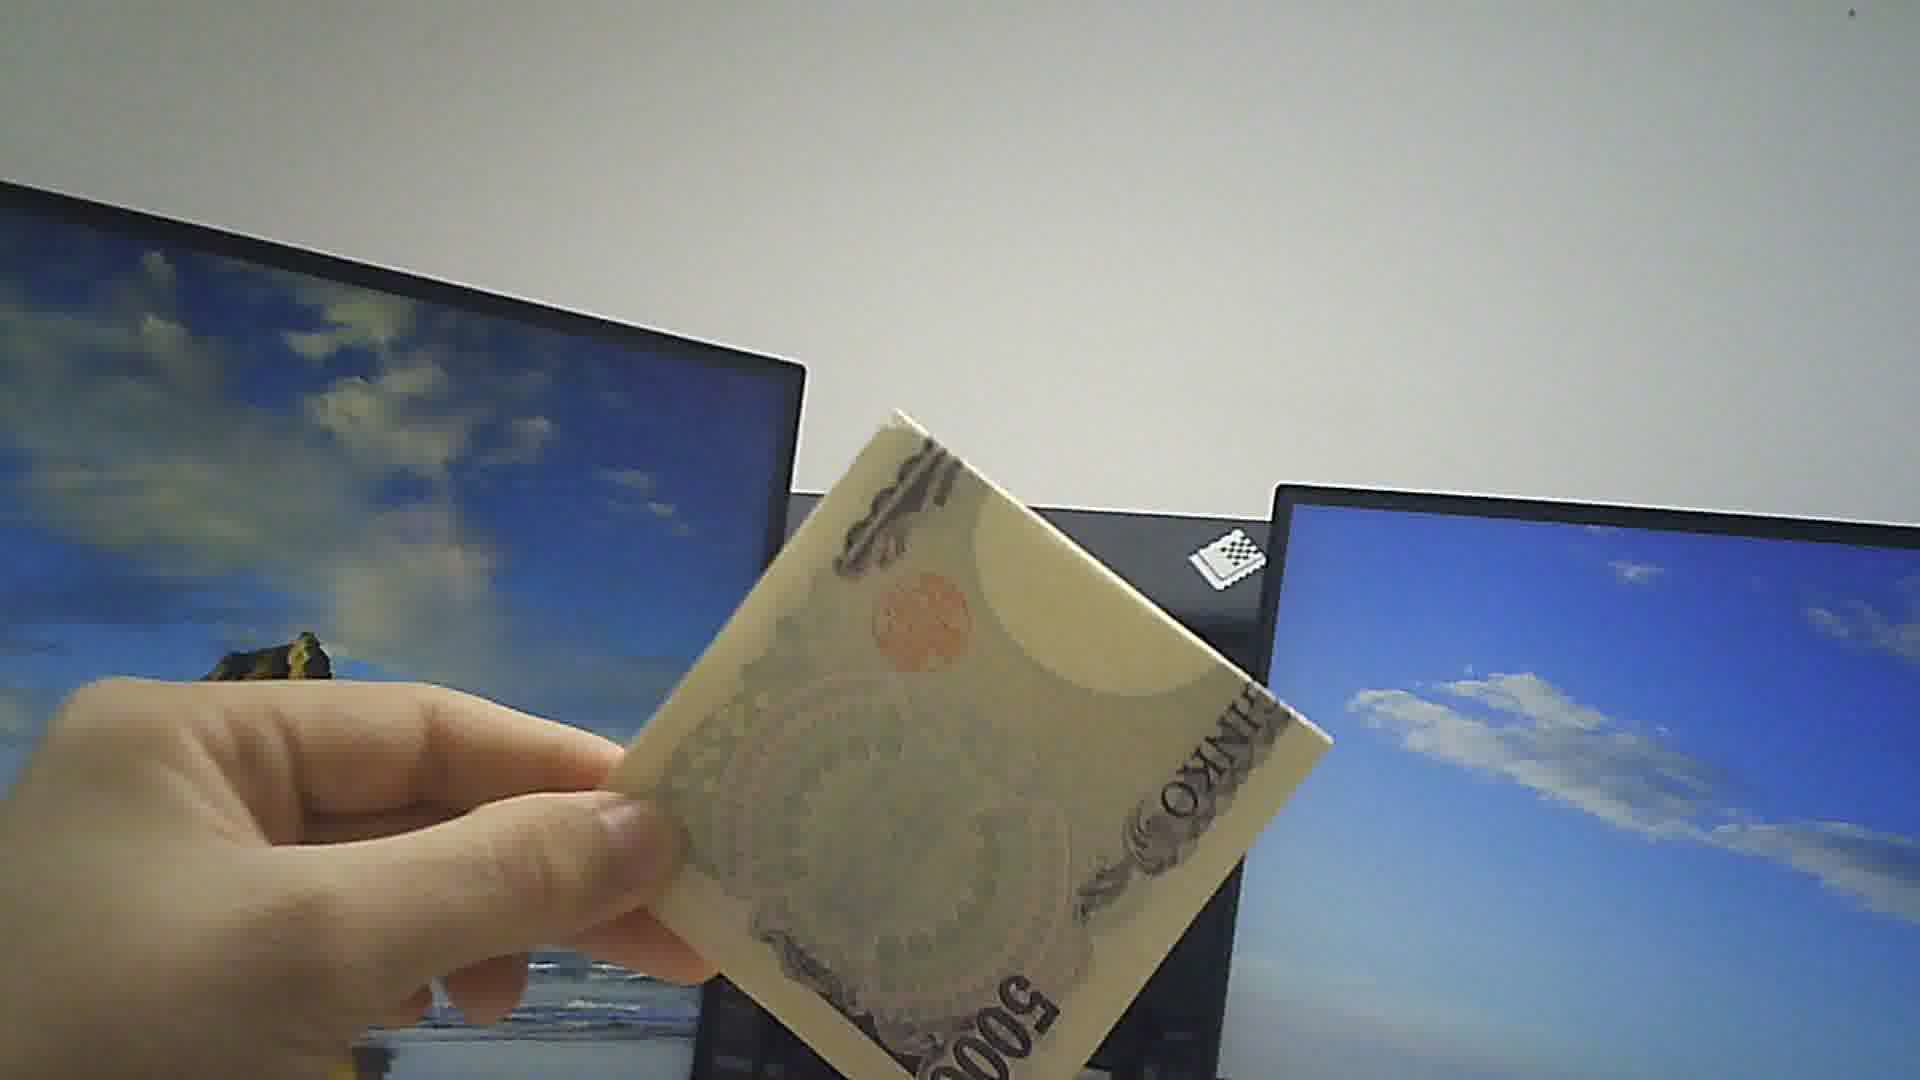5,000 Yen: (568, 392, 1329, 1079)
